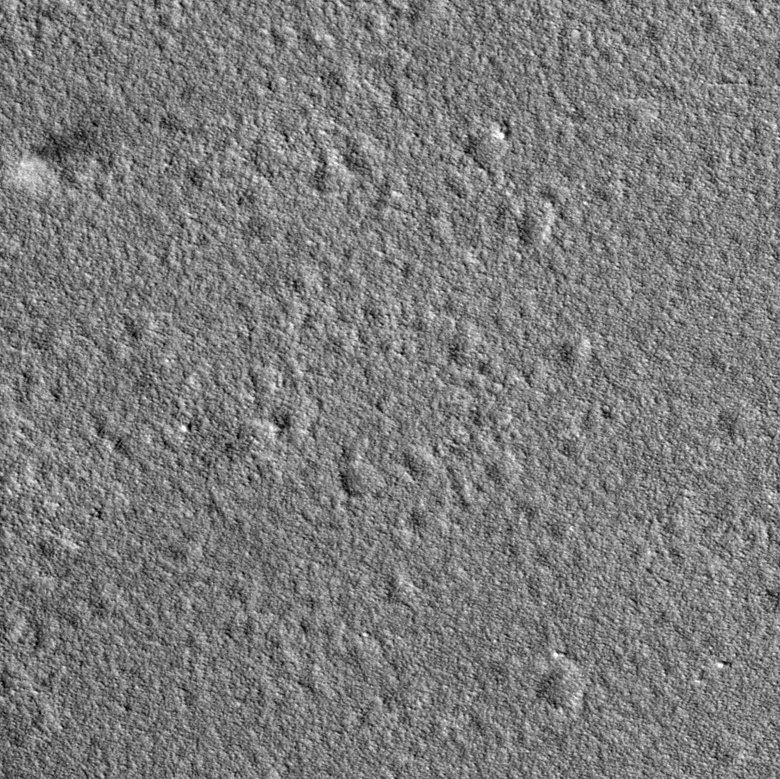dust_devil: (13, 116, 116, 201)
